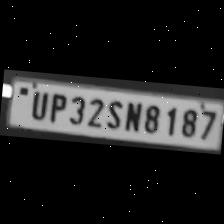1: (160, 104, 180, 136)
2: (83, 94, 105, 128)
3: (64, 91, 86, 125)
7: (196, 107, 218, 141)
8: (140, 101, 163, 135), (176, 104, 199, 138)
N: (120, 98, 142, 132)
P: (44, 90, 66, 122)
S: (102, 97, 124, 131)
U: (24, 88, 48, 121)
